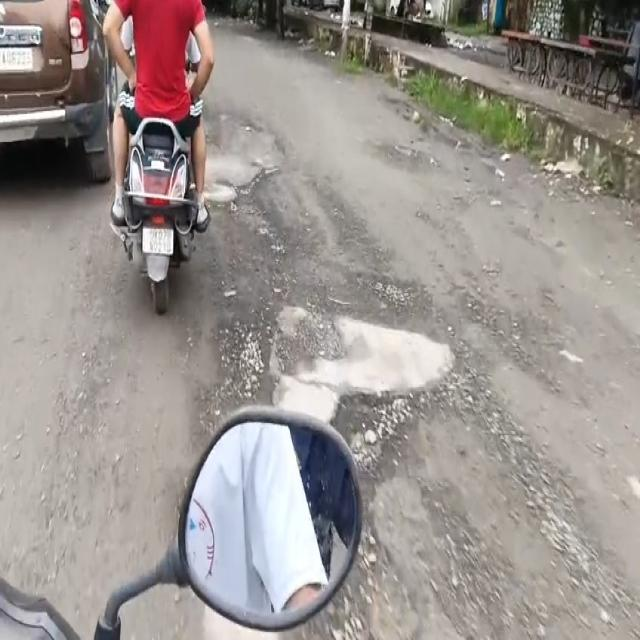road-pothole: (195, 261, 494, 505), (209, 103, 286, 257)
